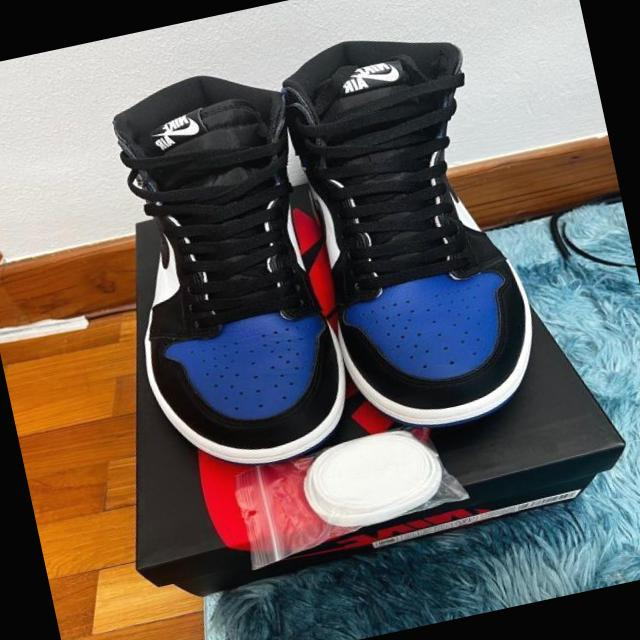nike_original_jordan: (268, 11, 552, 450), (90, 59, 362, 484)
